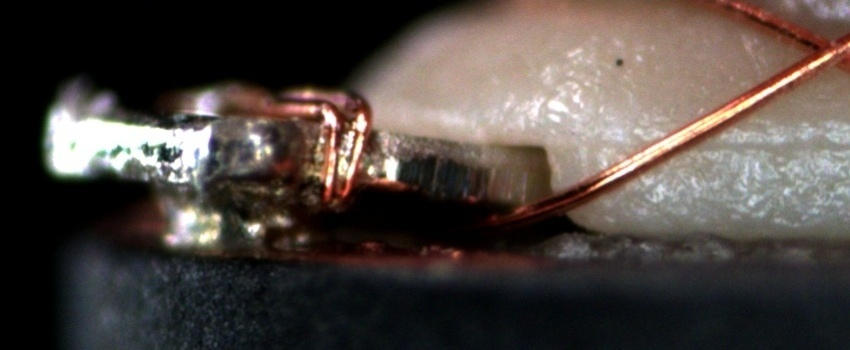CL: (786, 16, 846, 80)
DL: (616, 113, 849, 172)
TE: (240, 77, 373, 218)
